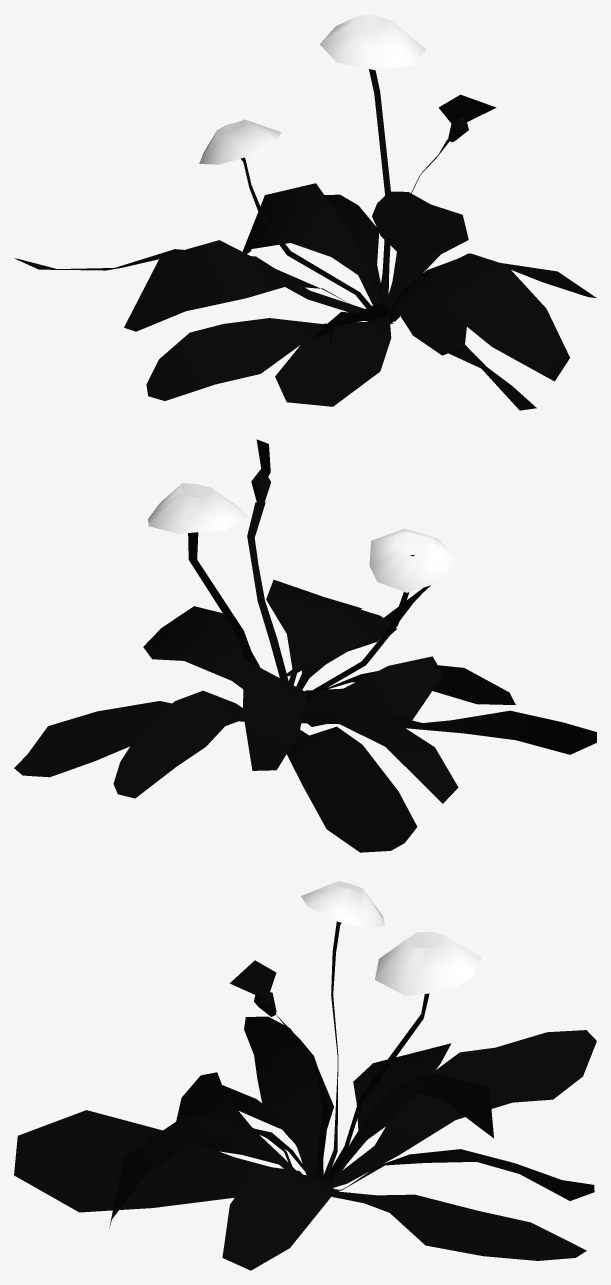
The model's file is dandelionB.glb.
3 renders of one model, top to bottom at view 1: azimuth 30°, elevation 25°; view 2: azimuth 150°, elevation 25°; view 3: azimuth 270°, elevation 25°, orthographic. The views are drawn at different scales.
Parts seen in each view (by area): view 1: dandelion_01_b_LOD3; view 2: dandelion_01_b_LOD3; view 3: dandelion_01_b_LOD3.
Boxes of the visible parts, x1=… form: dandelion_01_b_LOD3: x1=14, y1=14, x2=596, y2=410; dandelion_01_b_LOD3: x1=14, y1=439, x2=596, y2=852; dandelion_01_b_LOD3: x1=14, y1=881, x2=596, y2=1270.
Size of the model in its own units: 0.1971 by 0.1129 by 0.2115.
1 material, 1 textured.
